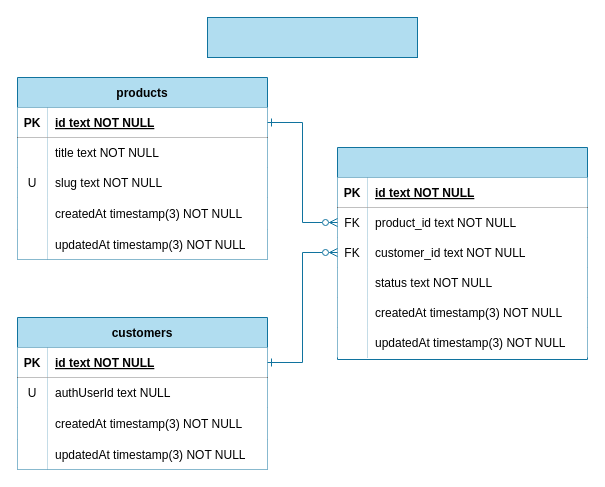
Image size: 605x487. Some labels were removed from this diagram. Each missing label, with the box of its shape:
purchases: (336, 146, 588, 360)
Purchases ERM: (206, 16, 418, 58)
